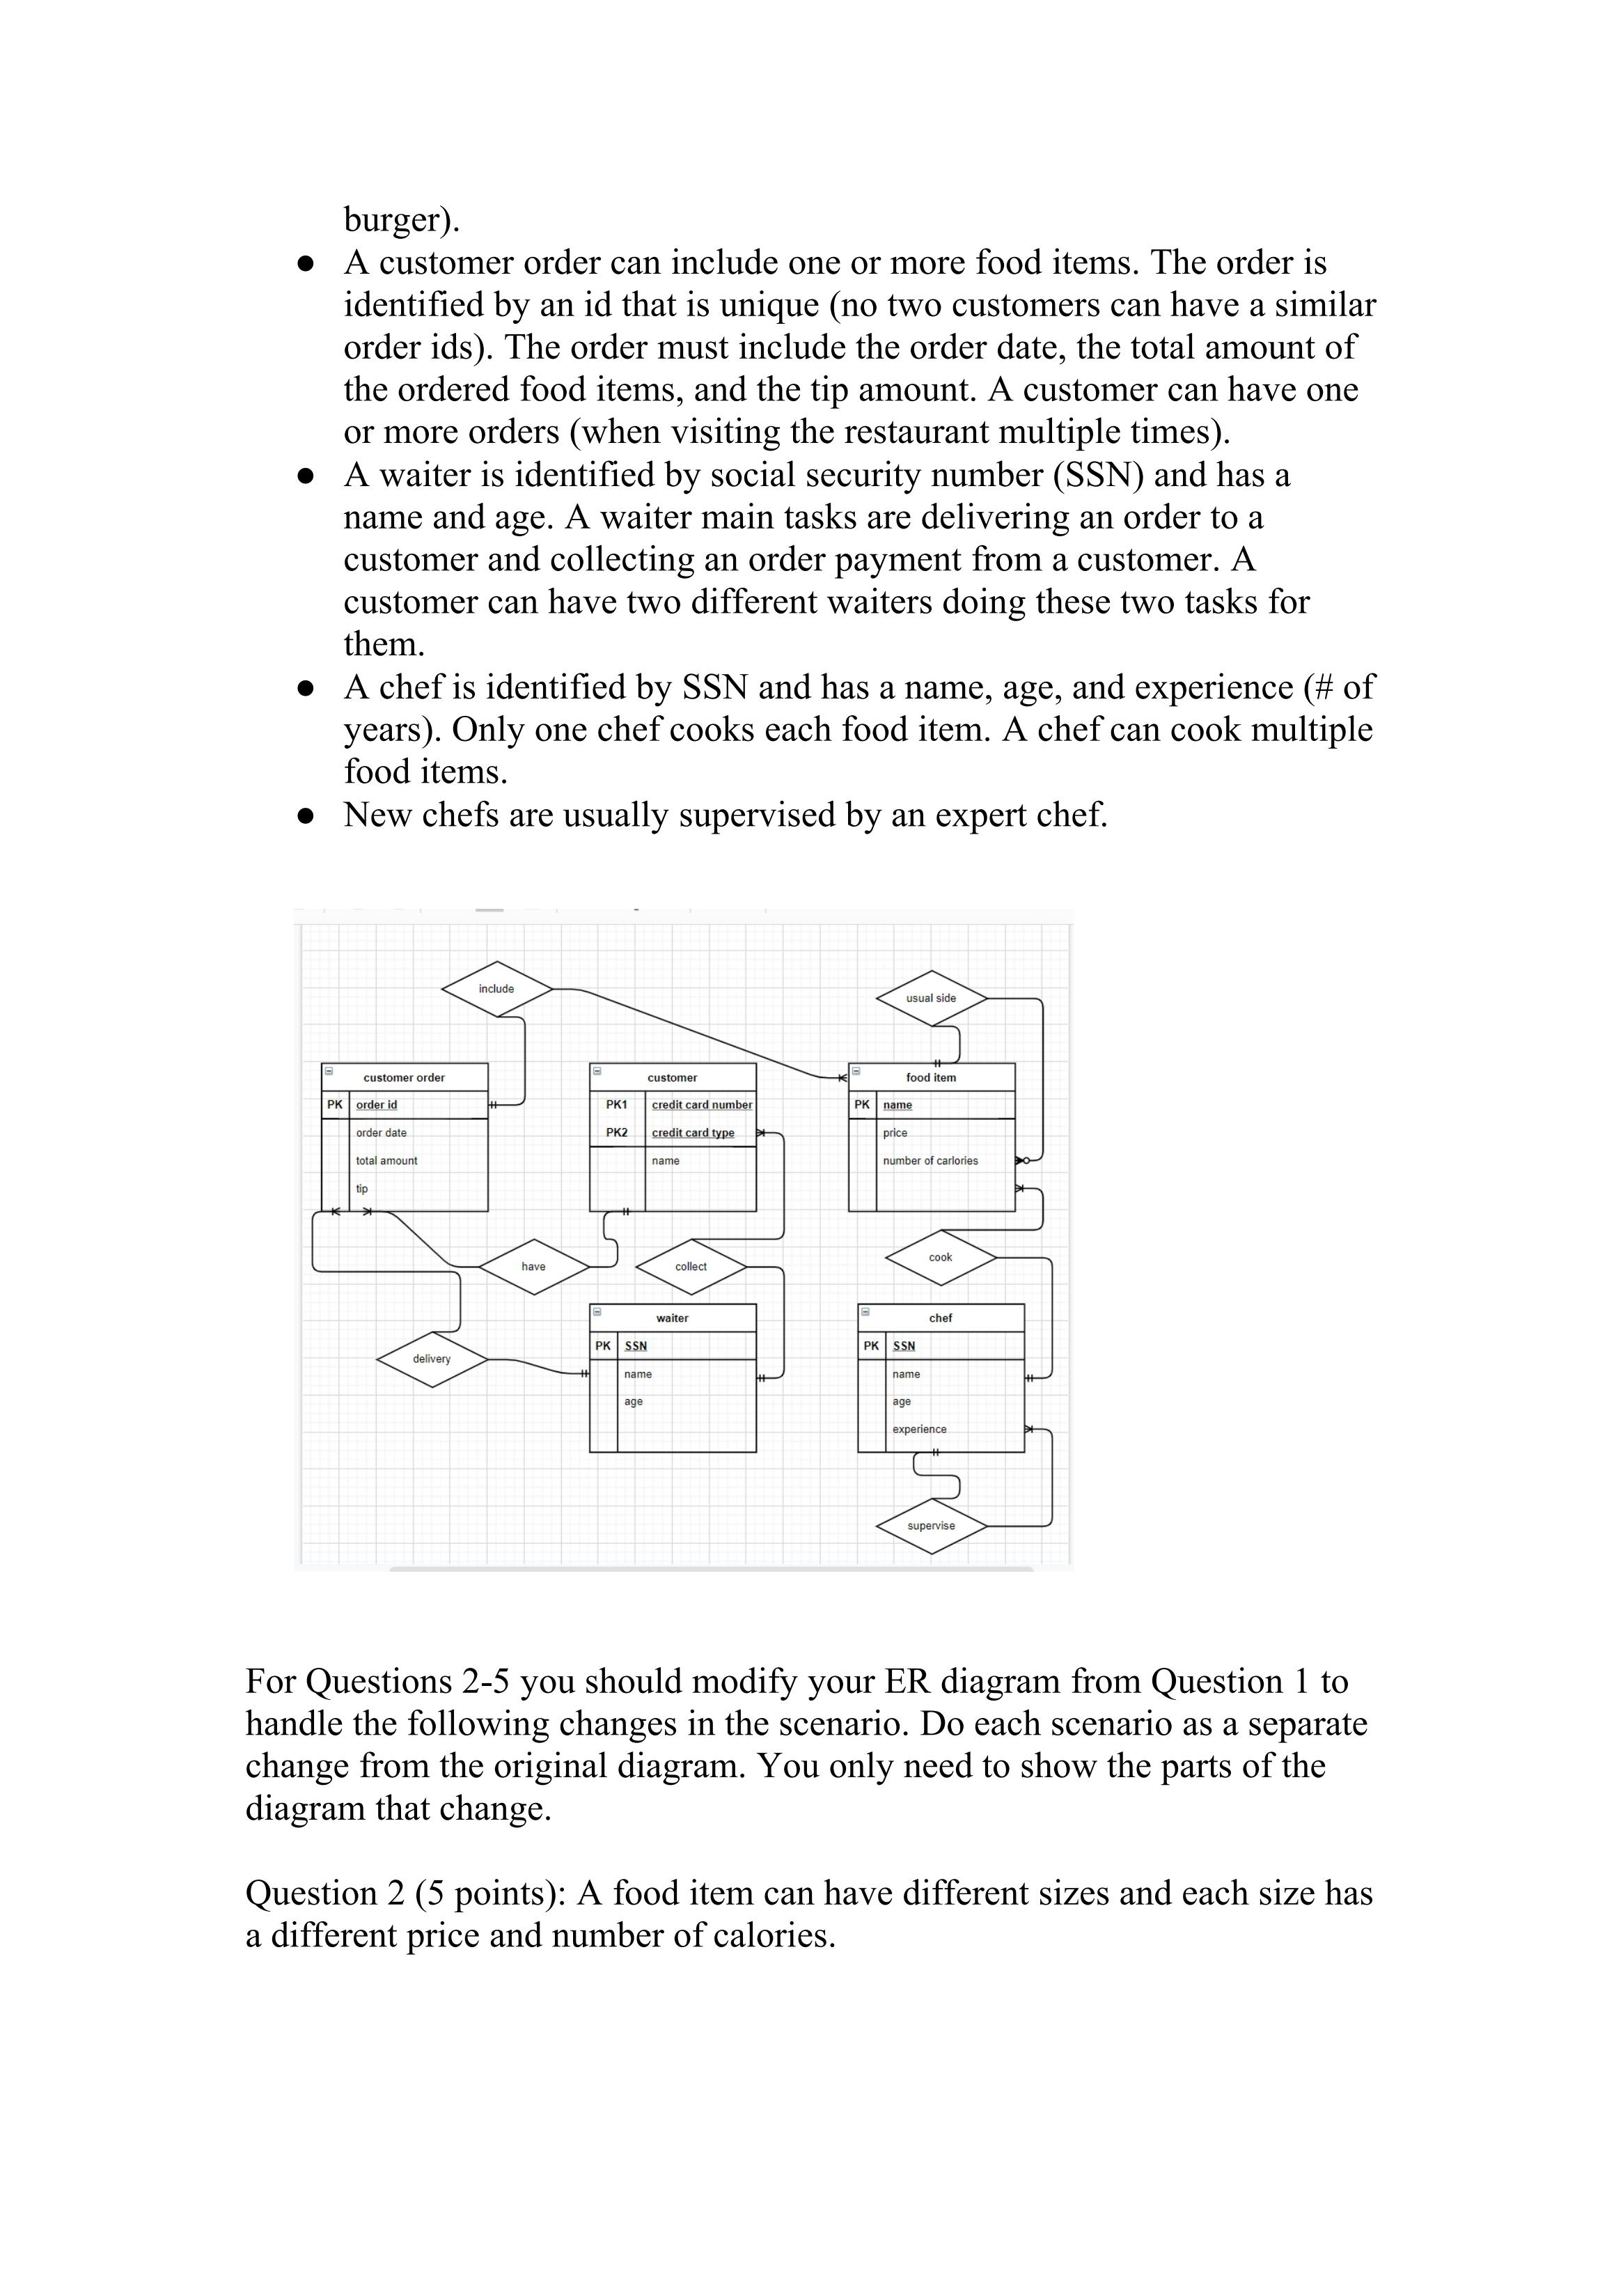Entity: (320, 1061, 490, 1214), (588, 1302, 759, 1455), (588, 1063, 759, 1214), (847, 1063, 1017, 1214), (857, 1303, 1026, 1455)
Relationship: (376, 1330, 488, 1388), (441, 959, 553, 1017), (634, 1238, 747, 1296), (884, 1230, 996, 1288), (875, 1497, 987, 1555), (875, 970, 987, 1026), (480, 1238, 590, 1295)
